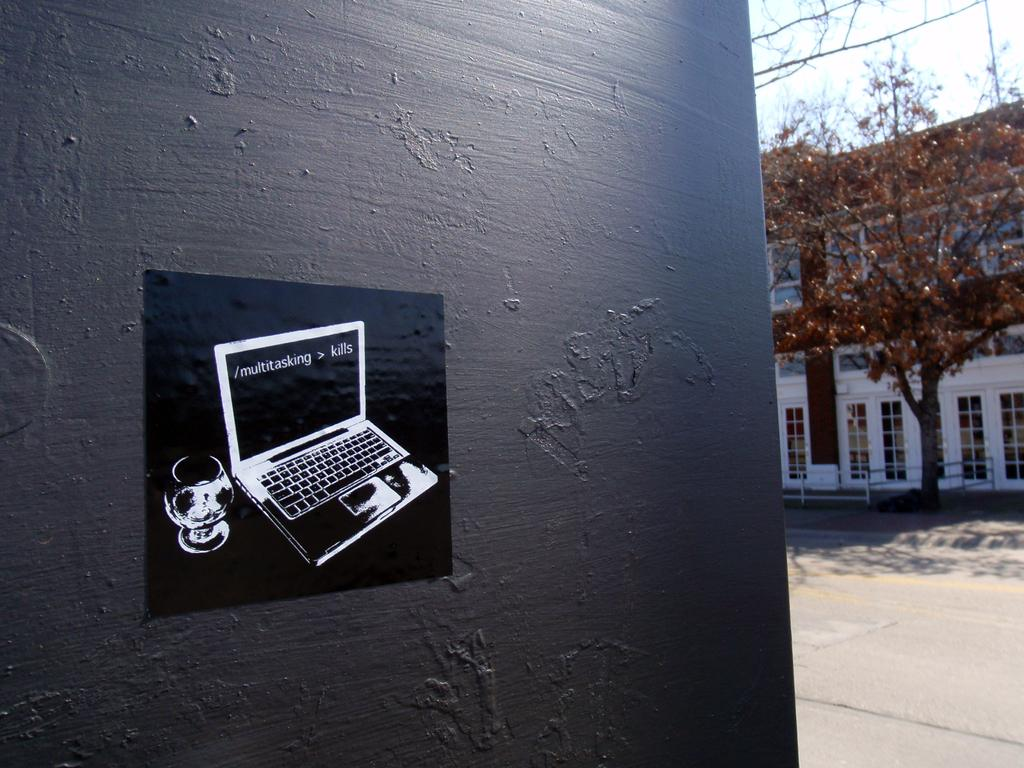Computer-keyboard: (250, 426, 402, 521)
